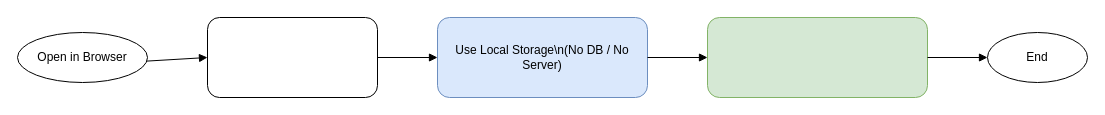
This 1105x115 diagram has some shape labels left out. Here are the shapes that lost their labels. From the top down, the centre of each, then its label:
At (x=292, y=57): "Load Lightweight UI".
At (x=817, y=57): "Responsive Core Actions\nCreate, View, Complete".
